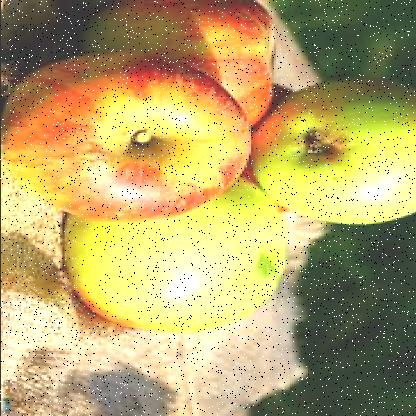apple: (9, 62, 250, 216), (55, 178, 275, 336), (255, 76, 414, 222), (78, 2, 270, 122)
